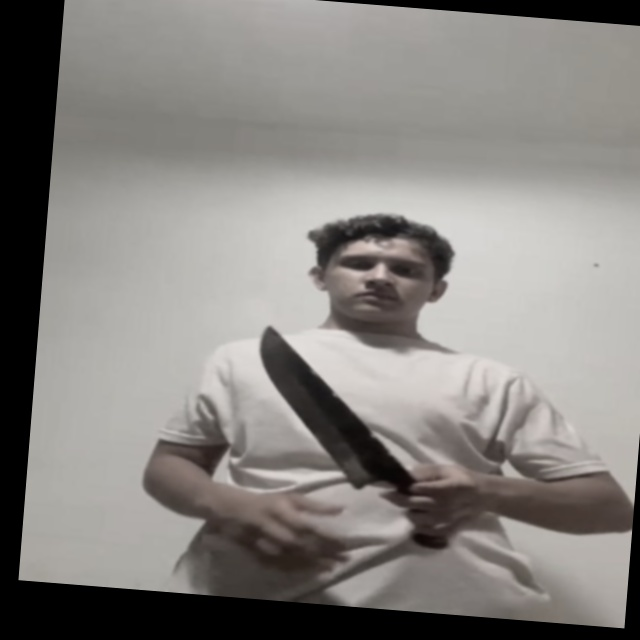Sharp-Object: (246, 323, 419, 488)
